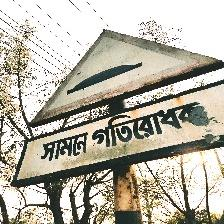Speed-breaker: (18, 32, 223, 186)
